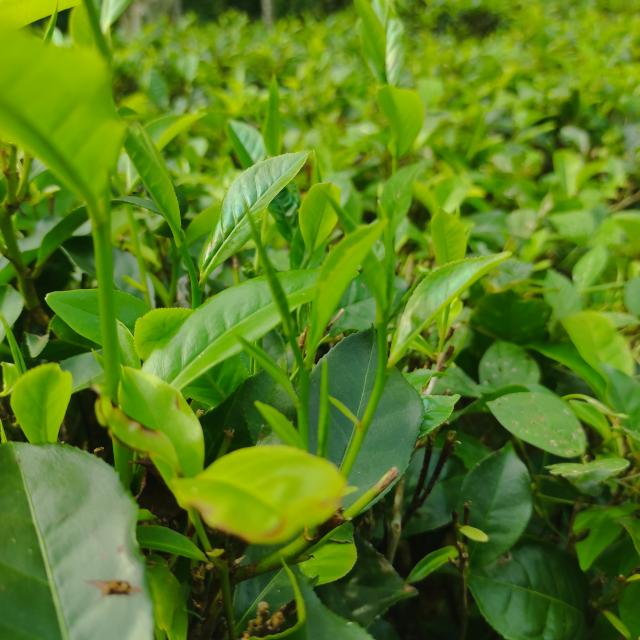unopened_leaf: (230, 166, 318, 389), (223, 320, 310, 448), (309, 350, 338, 462), (2, 300, 34, 384), (32, 1, 64, 50)
